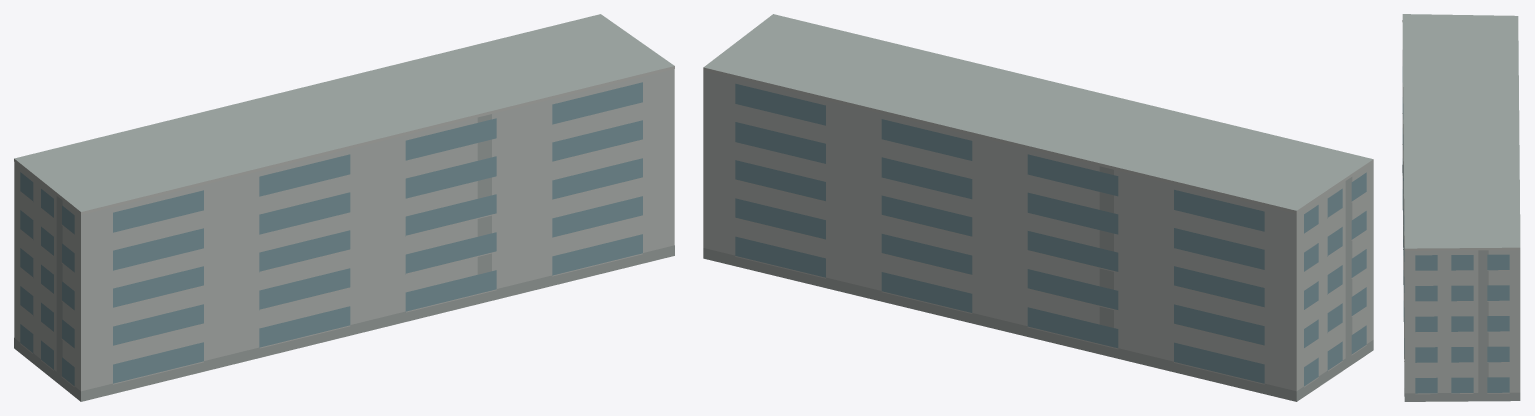
Rendered from residential-b82e61be-687a-4b64-a9c3-b17fff1916b5.glb.
3 renders of one model, left to right at view 1: azimuth 30°, elevation 25°; view 2: azimuth 150°, elevation 25°; view 3: azimuth 270°, elevation 25°, orthographic. The views are drawn at different scales.
Visible parts, largest first — view 1: residential-b82e61be-687a-4b64-a9c3-b17fff1916b5.tmp; view 2: residential-b82e61be-687a-4b64-a9c3-b17fff1916b5.tmp; view 3: residential-b82e61be-687a-4b64-a9c3-b17fff1916b5.tmp.
Boxes of the visible parts, left/top/right/bottom form: residential-b82e61be-687a-4b64-a9c3-b17fff1916b5.tmp: left=14, top=14, right=674, bottom=401; residential-b82e61be-687a-4b64-a9c3-b17fff1916b5.tmp: left=703, top=14, right=1373, bottom=401; residential-b82e61be-687a-4b64-a9c3-b17fff1916b5.tmp: left=1402, top=14, right=1520, bottom=401.
Bounding box in the file's own units: 50.03 × 15.25 × 10.64.
